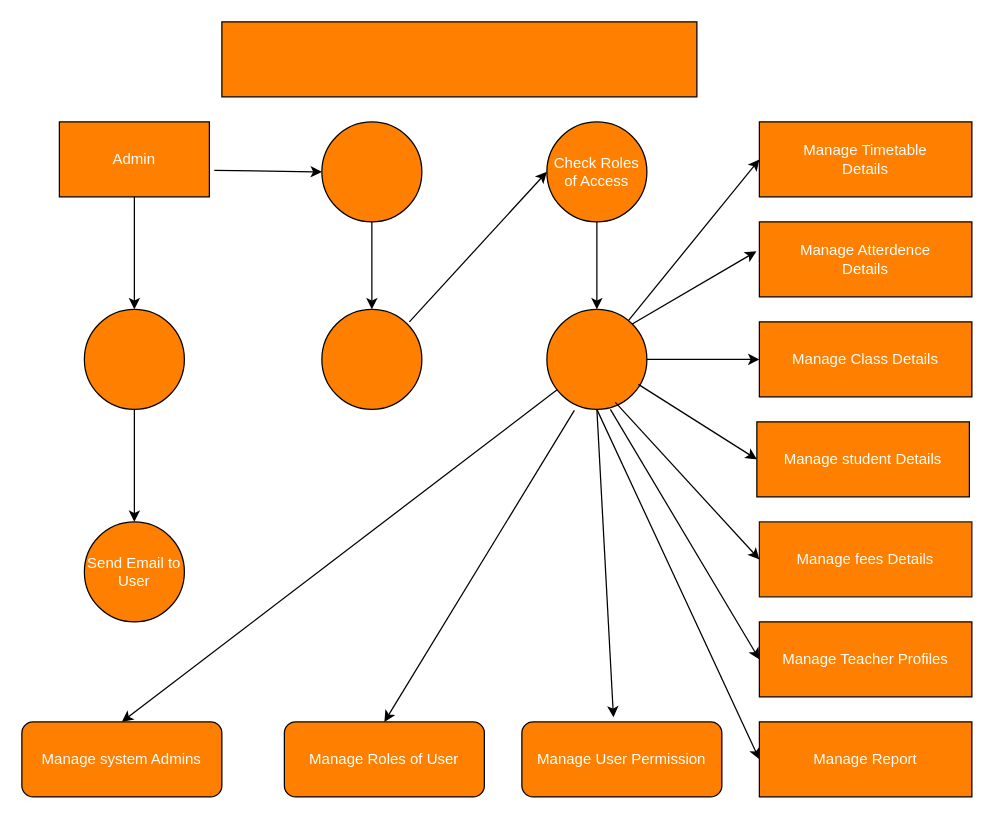
The diagram is 994 pixels wide and 819 high, and some of its shapes have lost their labels. Here are the shapes that lost their labels. From the top down, the box of each, then its label:
(221, 21, 697, 97): Student Information System
(321, 121, 422, 222): Login to System
(83, 308, 184, 409): Forget Password
(321, 308, 422, 409): Check Credentials
(546, 308, 647, 409): Manage Modules
